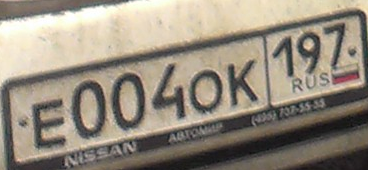character: (68, 74, 108, 139), (149, 61, 188, 125), (110, 71, 149, 132), (30, 93, 69, 150), (188, 65, 226, 115), (225, 57, 262, 107), (320, 20, 352, 70), (268, 32, 297, 79), (295, 28, 323, 74)
